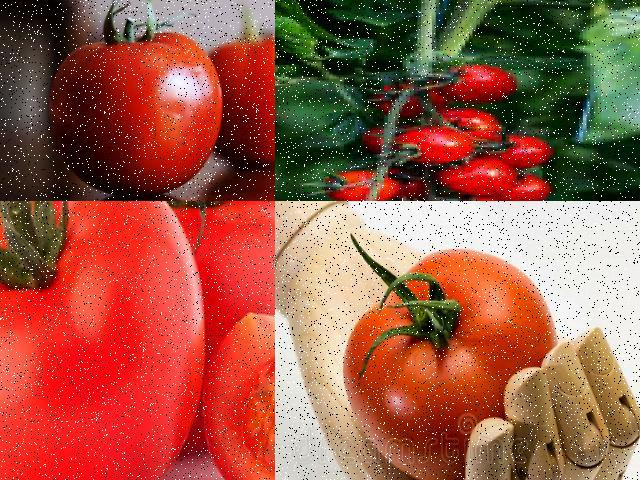tomato: (0, 201, 207, 479), (339, 240, 570, 480), (76, 201, 274, 457), (38, 32, 232, 196), (211, 38, 274, 176), (432, 61, 517, 106), (384, 127, 476, 168), (303, 168, 407, 200), (447, 166, 513, 197)
